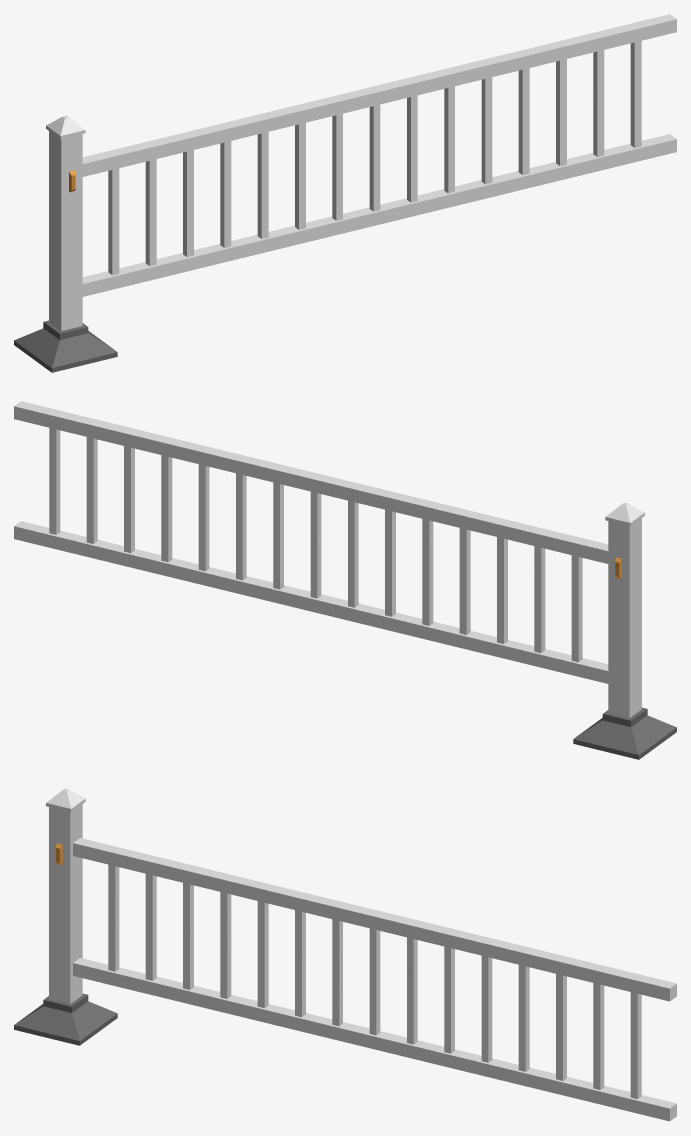
The model's file is SM_Fence7-0.glb.
3 renders of one model, top to bottom at view 1: azimuth 30°, elevation 25°; view 2: azimuth 150°, elevation 25°; view 3: azimuth 330°, elevation 25°, orthographic.
Parts seen in each view (by area): view 1: SM_Fence7-0; view 2: SM_Fence7-0; view 3: SM_Fence7-0.
Part boxes in pixels (box(x1,y1,x2,y2)): SM_Fence7-0: box(14, 14, 676, 372); SM_Fence7-0: box(14, 401, 676, 759); SM_Fence7-0: box(14, 788, 676, 1121).
Size of the model in its own units: 2.09 by 0.7284 by 0.2143.
Materials: 3 (1 with a texture image).
